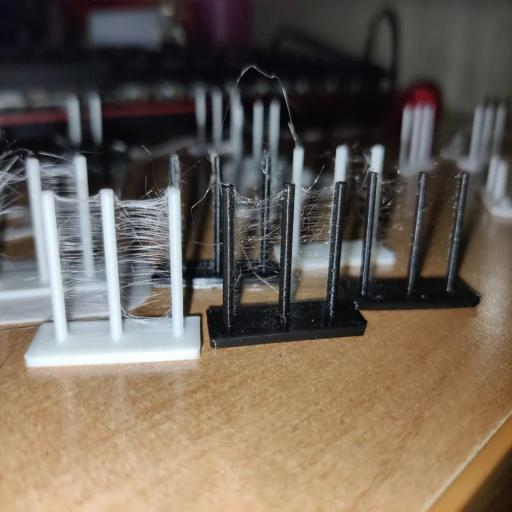stringing: (211, 55, 299, 146), (54, 190, 110, 331), (115, 191, 172, 328), (236, 188, 281, 313), (291, 184, 337, 304), (371, 174, 419, 284), (418, 174, 460, 275), (0, 129, 30, 221), (42, 156, 74, 191)
